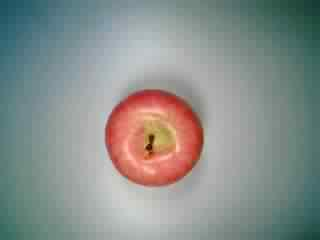apple: (101, 85, 206, 187)
